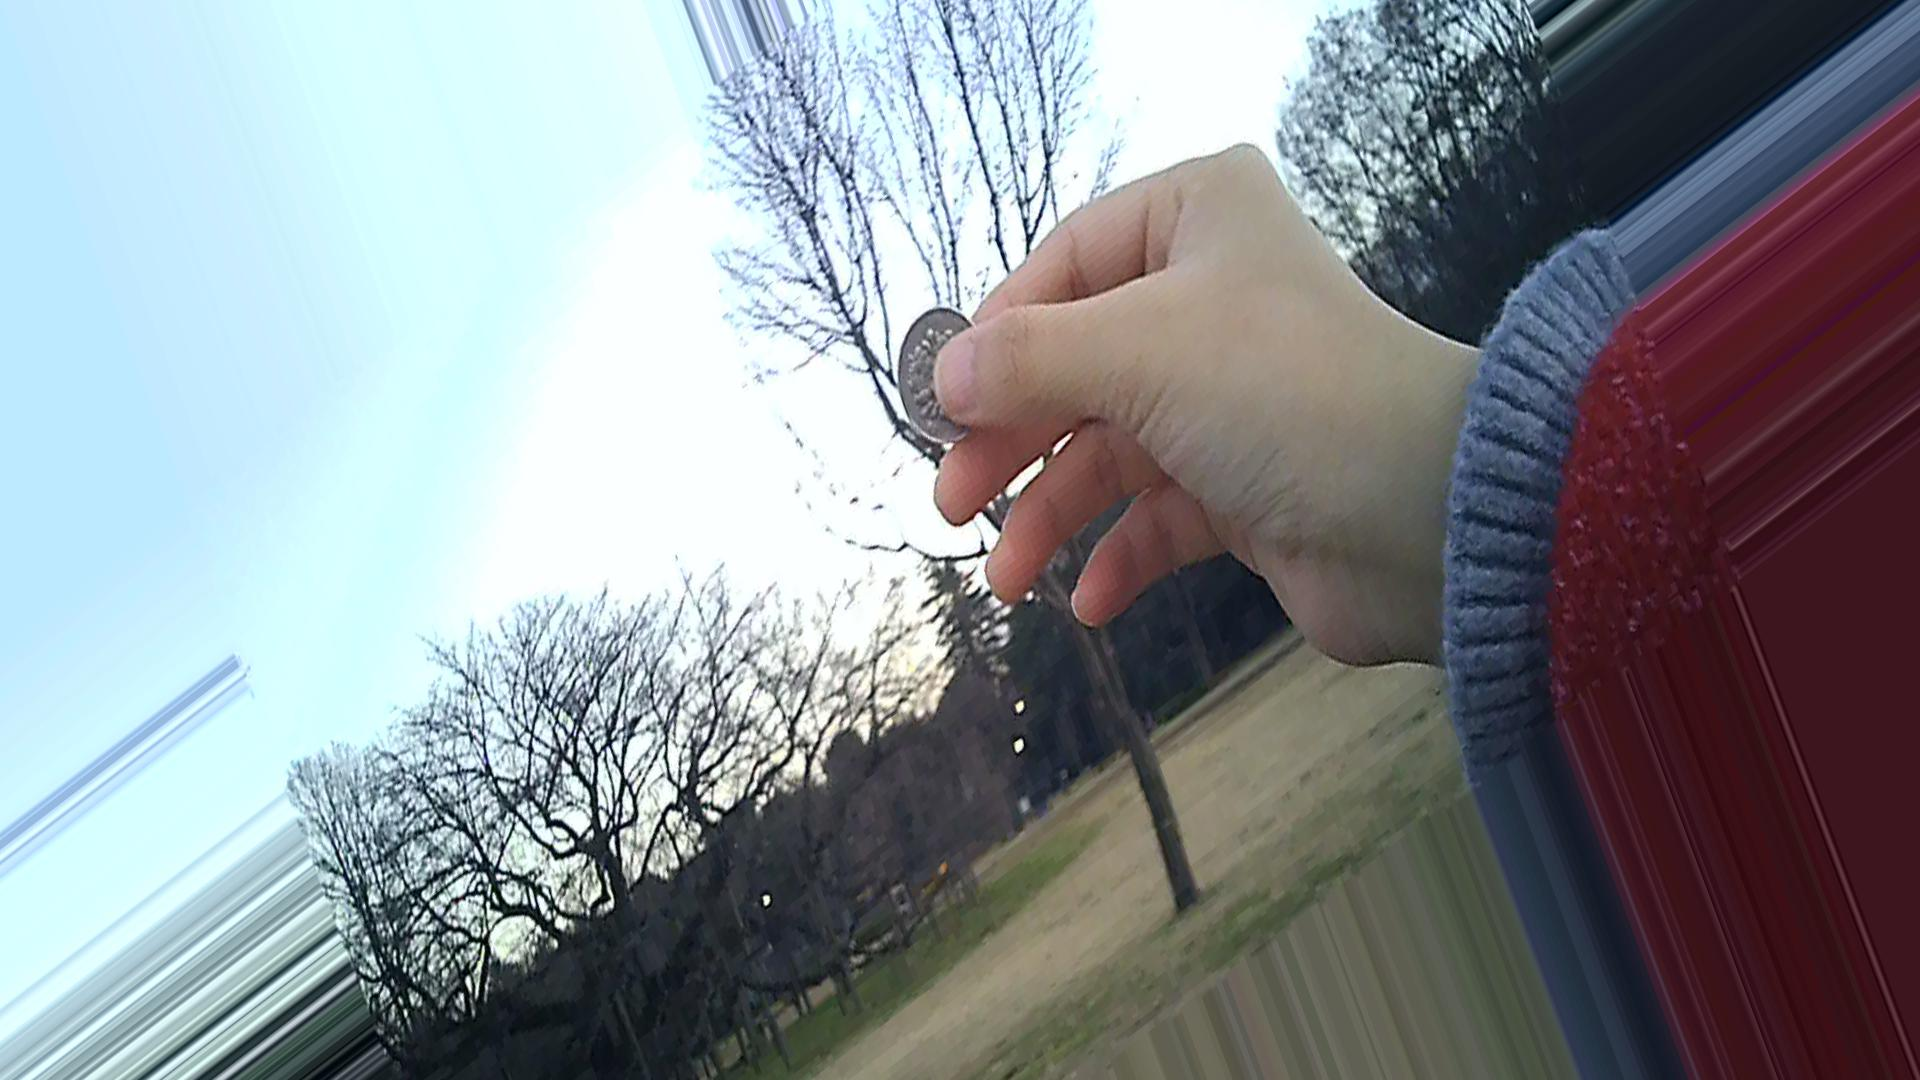100 Yen: (887, 301, 1004, 458)
